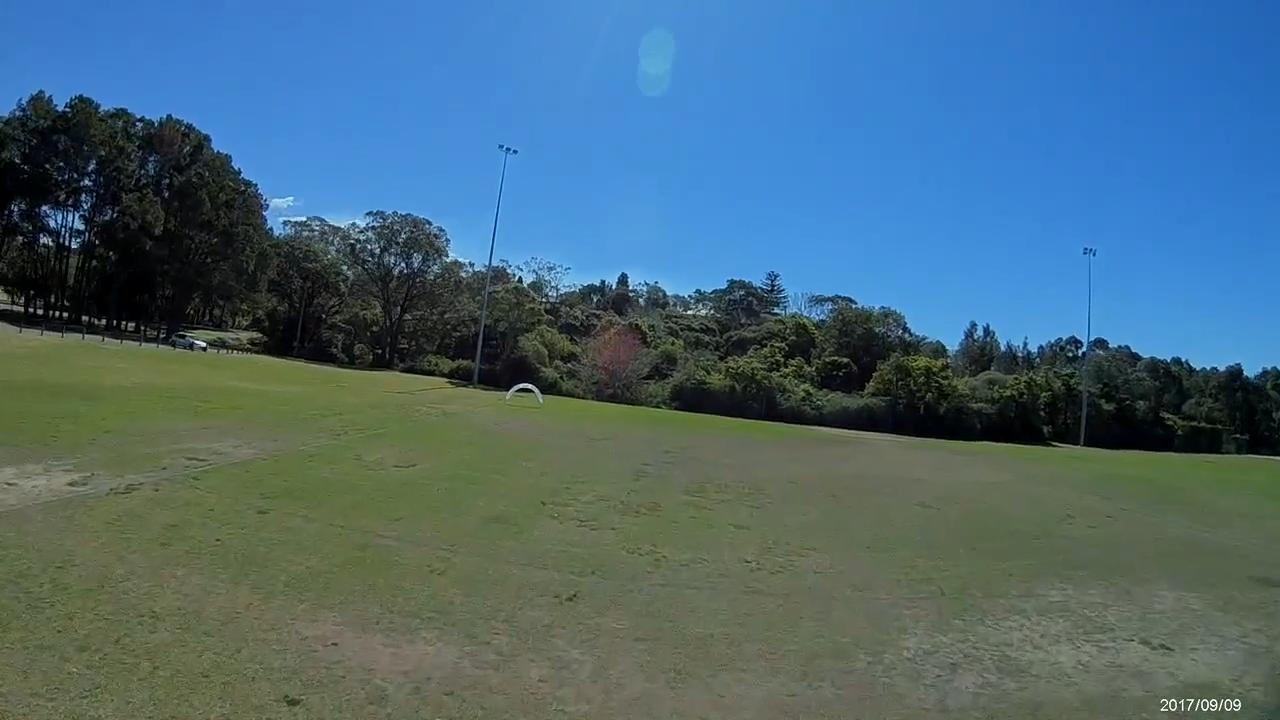gate: (504, 382, 544, 405)
